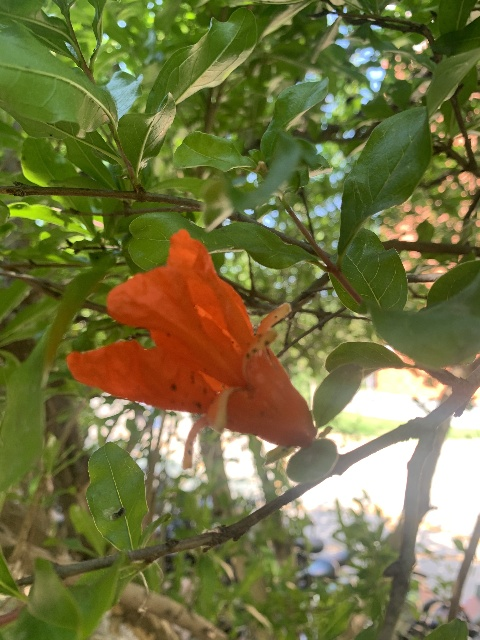flower: (66, 228, 316, 464)
